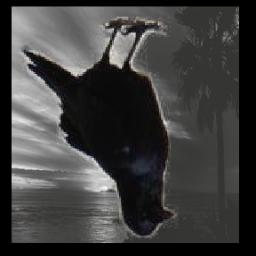Crow: (19, 18, 180, 240)
